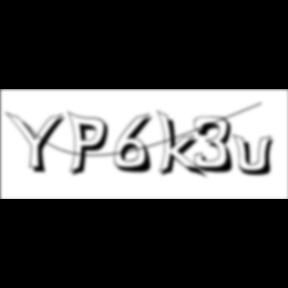3: (195, 116, 241, 176)
6: (114, 112, 160, 176)
P: (68, 110, 114, 180)
Y: (4, 110, 72, 176)
k: (156, 108, 210, 181)
u: (232, 132, 280, 178)
